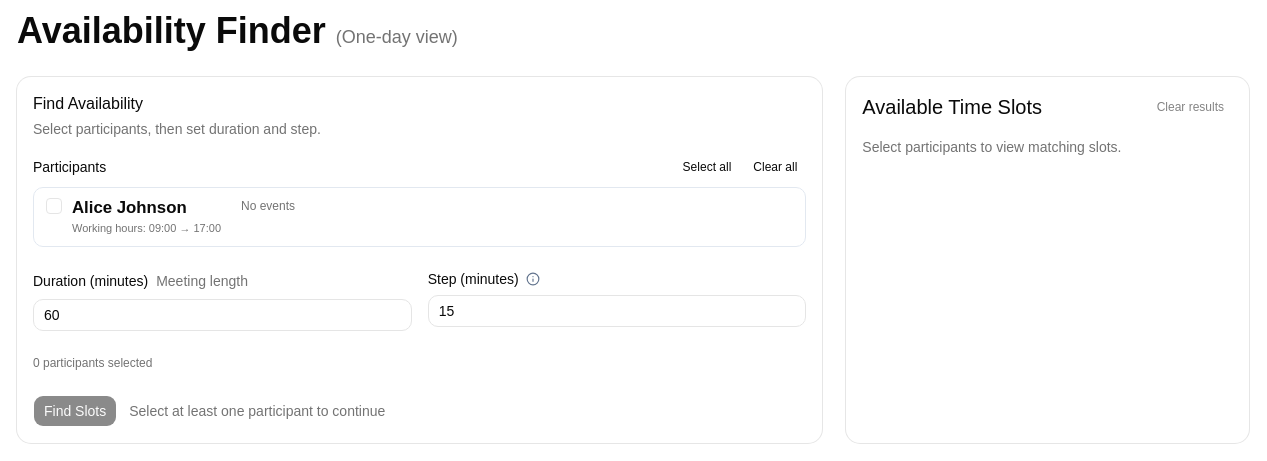
Test: App request lifecycle › keeps the panel cleared when a cleared request resolves late
This screenshot has width=1267, height=461.
Click the checkbox named "Alice Johnson" at (54, 206), box x1=46 y1=198 x2=62 y2=214
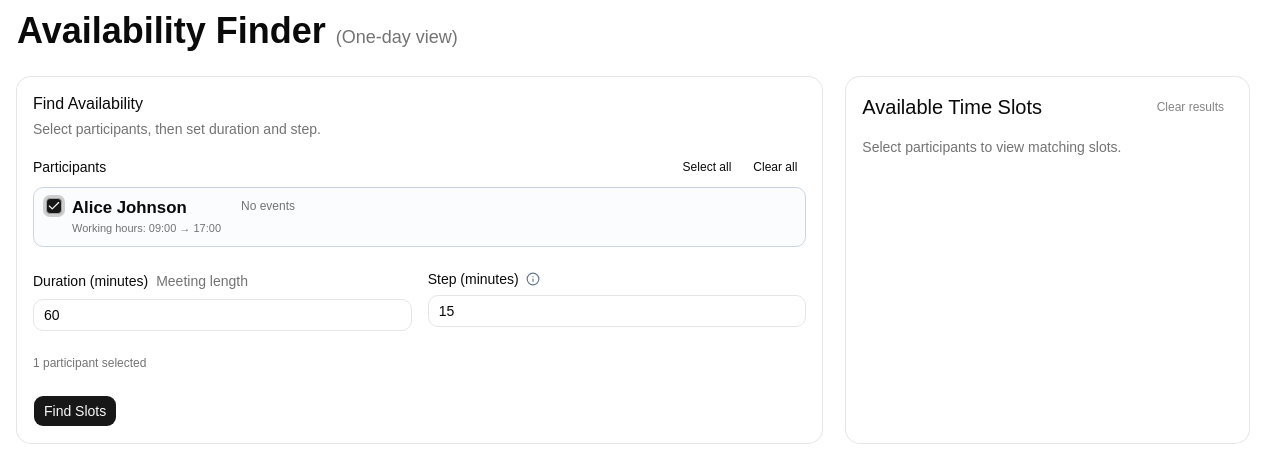
Click the button "Find Slots" at (75, 411), box x1=33 y1=395 x2=117 y2=427
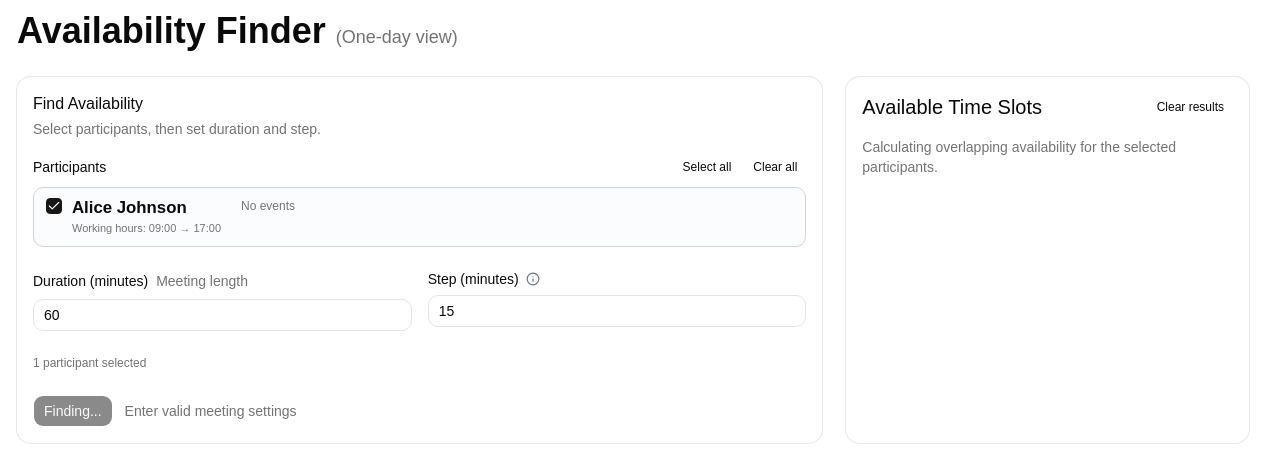
Click the button "Clear results" at (1190, 107), box x1=1148 y1=95 x2=1233 y2=119
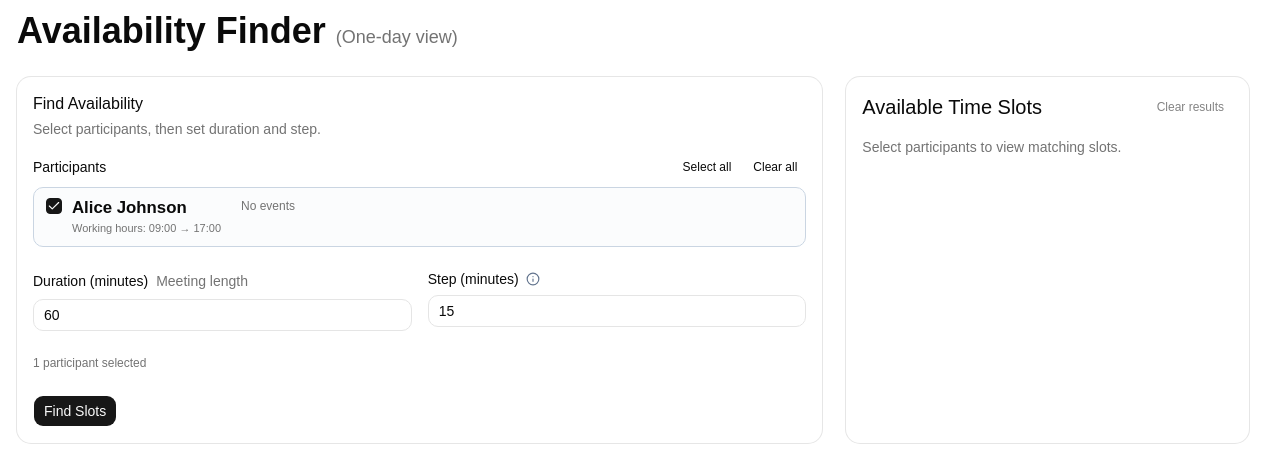
Result: the text "Select participants to view matching slots." is shown at x1=862 y1=139 x2=1121 y2=155
